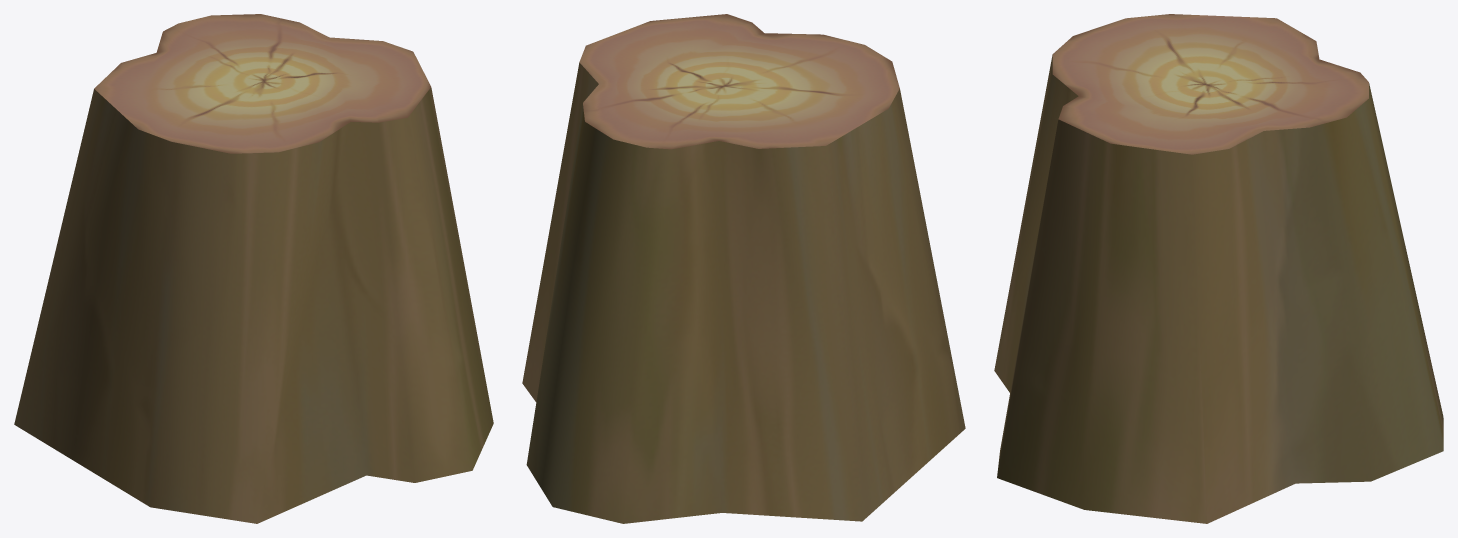
File: m_env_collect_tree_cedar_stump_01_lod1.fbx
The picture shows the model from 3 angles, left to right: view 1: azimuth 30°, elevation 25°; view 2: azimuth 150°, elevation 25°; view 3: azimuth 270°, elevation 25°; orthographic projection.
Parts seen in each view (by area): view 1: m_env_collect_tree_cedar_stump_01_lod1; view 2: m_env_collect_tree_cedar_stump_01_lod1; view 3: m_env_collect_tree_cedar_stump_01_lod1.
Part boxes in pixels (box(x1,y1,x2,y2)): m_env_collect_tree_cedar_stump_01_lod1: box(14, 14, 493, 523); m_env_collect_tree_cedar_stump_01_lod1: box(522, 14, 965, 523); m_env_collect_tree_cedar_stump_01_lod1: box(994, 14, 1443, 523).
Size of the model in its own units: 108 by 89.67 by 106.
